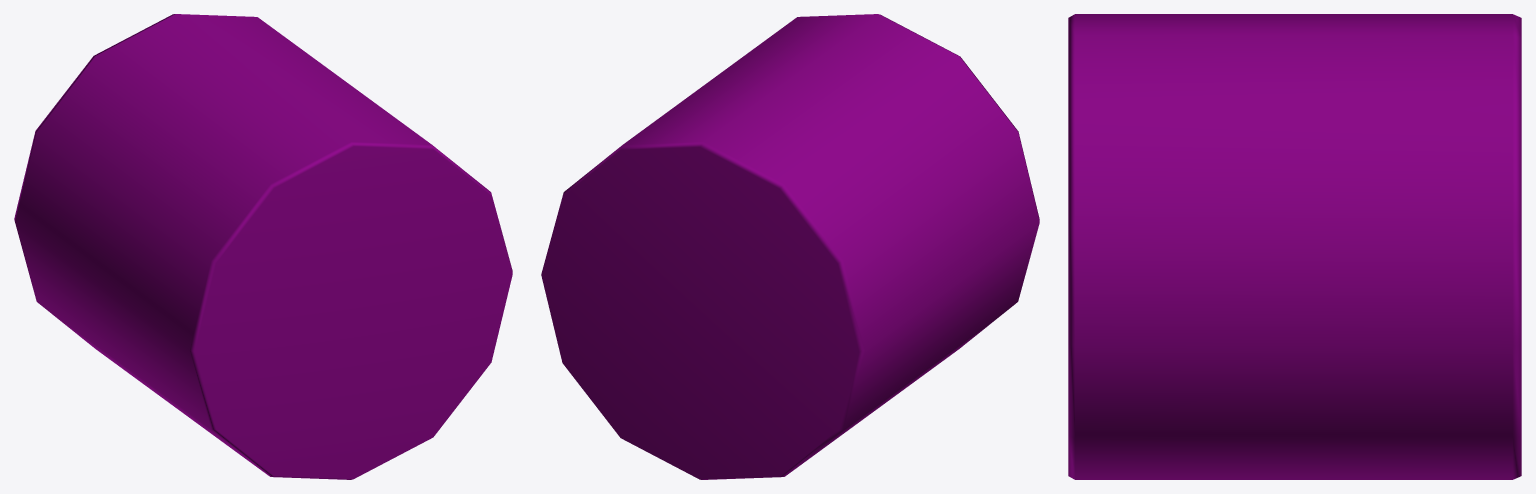
The model's file is Pipe_Connection_02.fbx.
3 views of the same model, side by side, from view 1: azimuth 30°, elevation 25°; view 2: azimuth 150°, elevation 25°; view 3: azimuth 270°, elevation 25° (orthographic). The views are drawn at different scales.
Parts seen in each view (by area): view 1: Pipe_Connection_02; view 2: Pipe_Connection_02; view 3: Pipe_Connection_02.
Part boxes in pixels (<box>): Pipe_Connection_02: <box>14,14,512,479</box>; Pipe_Connection_02: <box>541,14,1039,479</box>; Pipe_Connection_02: <box>1068,14,1521,479</box>.
Bounding box in the file's own units: 49.25 × 49.25 × 47.75.
